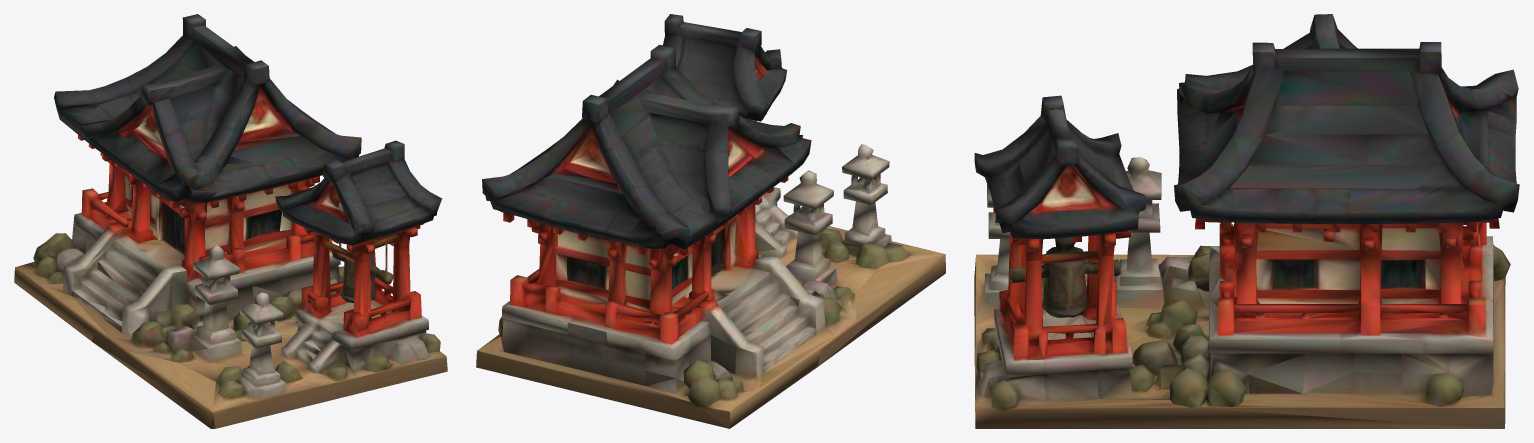
File: temple_t2.glb
3 renders of one model, left to right at view 1: azimuth 30°, elevation 25°; view 2: azimuth 150°, elevation 25°; view 3: azimuth 270°, elevation 25°, orthographic. The views are drawn at different scales.
Parts seen in each view (by area): view 1: tripo_node_ad4923bc-79a9-4474-9feb-7df77e178d39; view 2: tripo_node_ad4923bc-79a9-4474-9feb-7df77e178d39; view 3: tripo_node_ad4923bc-79a9-4474-9feb-7df77e178d39.
Boxes of the visible parts, x1=… form: tripo_node_ad4923bc-79a9-4474-9feb-7df77e178d39: x1=14, y1=14, x2=447, y2=428; tripo_node_ad4923bc-79a9-4474-9feb-7df77e178d39: x1=476, y1=14, x2=945, y2=428; tripo_node_ad4923bc-79a9-4474-9feb-7df77e178d39: x1=974, y1=14, x2=1519, y2=428.
Size of the model in its own units: 0.6637 by 0.6537 by 0.9791.
Materials: 1 (1 with a texture image).
